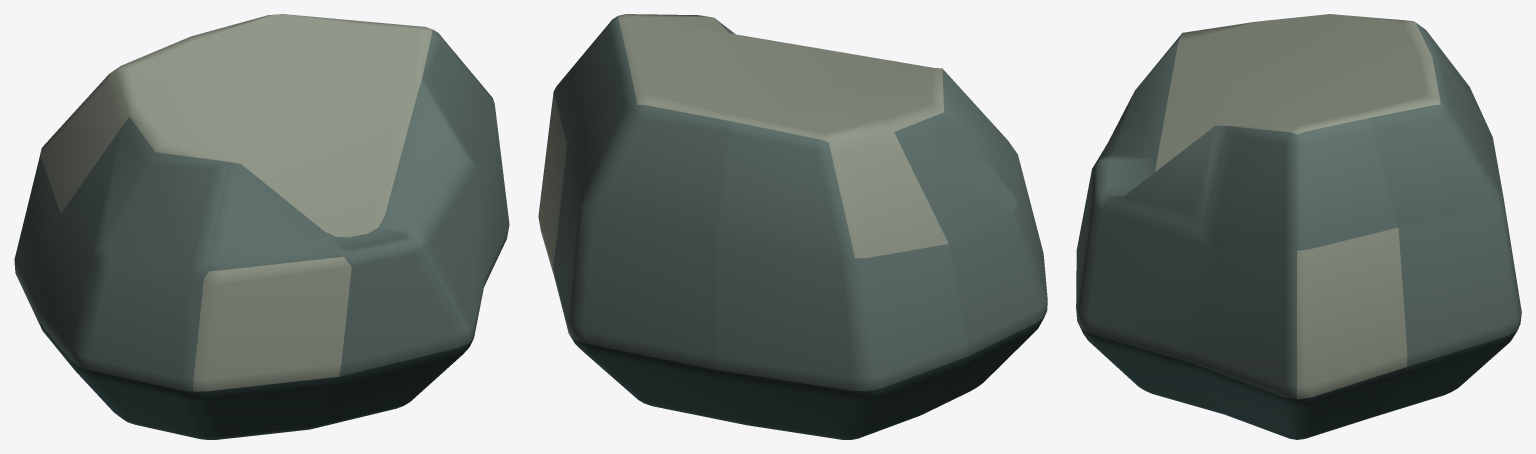
Rendered from rock-split-v4.glb.
3 views of the same model, side by side, from view 1: azimuth 30°, elevation 25°; view 2: azimuth 150°, elevation 25°; view 3: azimuth 270°, elevation 25° (orthographic). The views are drawn at different scales.
Visible parts, largest first — view 1: Rock split; view 2: Rock split; view 3: Rock split.
Boxes of the visible parts, bbox=[...] form: Rock split: bbox=[14, 14, 509, 439]; Rock split: bbox=[538, 14, 1047, 439]; Rock split: bbox=[1076, 14, 1521, 439].
Size of the model in its own units: 2.65 by 1.67 by 2.15.
